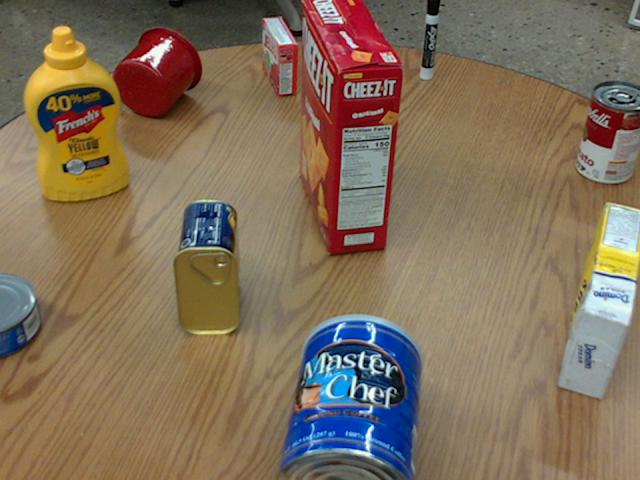cracker_box: (296, 0, 402, 252)
gelatin_box: (263, 17, 298, 95)
large_marker: (419, 0, 440, 78)
master_chef_can: (275, 313, 423, 479)
mug: (112, 26, 201, 116)
mustard_bottle: (24, 26, 127, 199)
potted_meat_can: (171, 198, 236, 334)
sugar_box: (559, 203, 639, 399)
tomato_soup_can: (574, 81, 639, 184)
tuna_fish_can: (0, 271, 39, 354)
